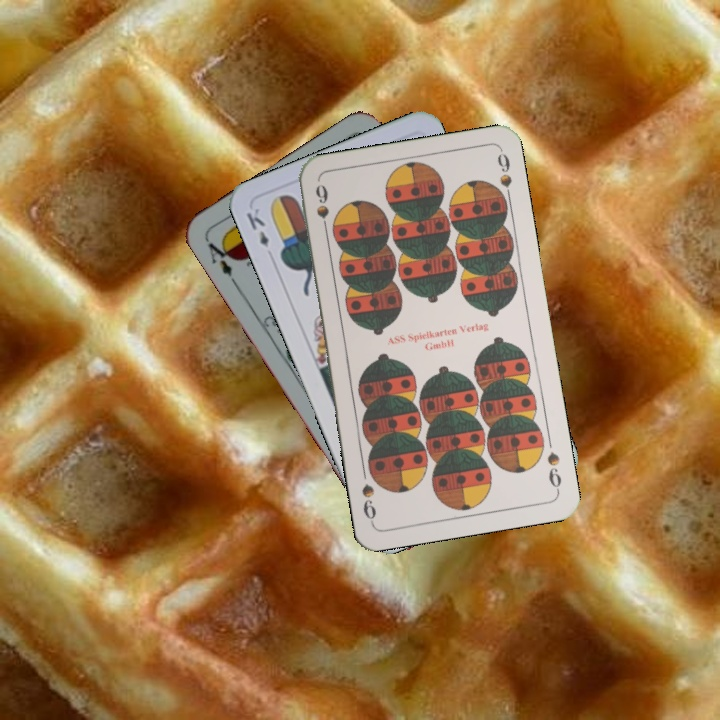EA: (202, 235, 240, 288)
EK: (242, 204, 272, 250)
S9: (311, 180, 332, 239), (543, 447, 564, 494)
